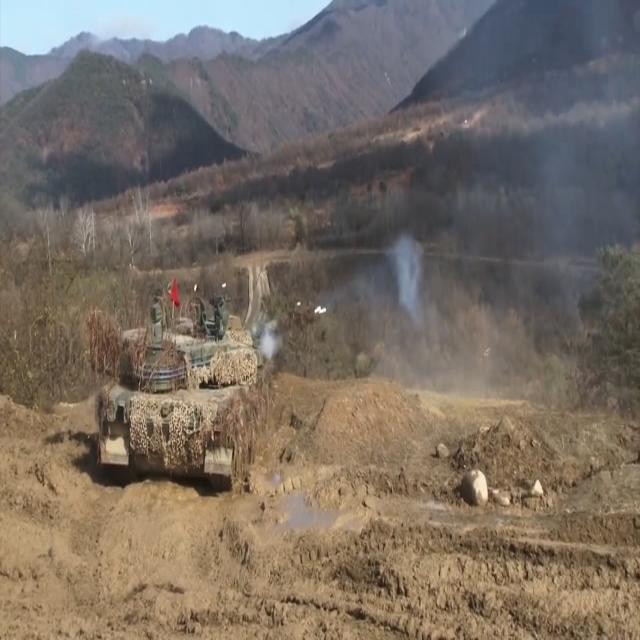korea tank: (85, 286, 318, 491)
